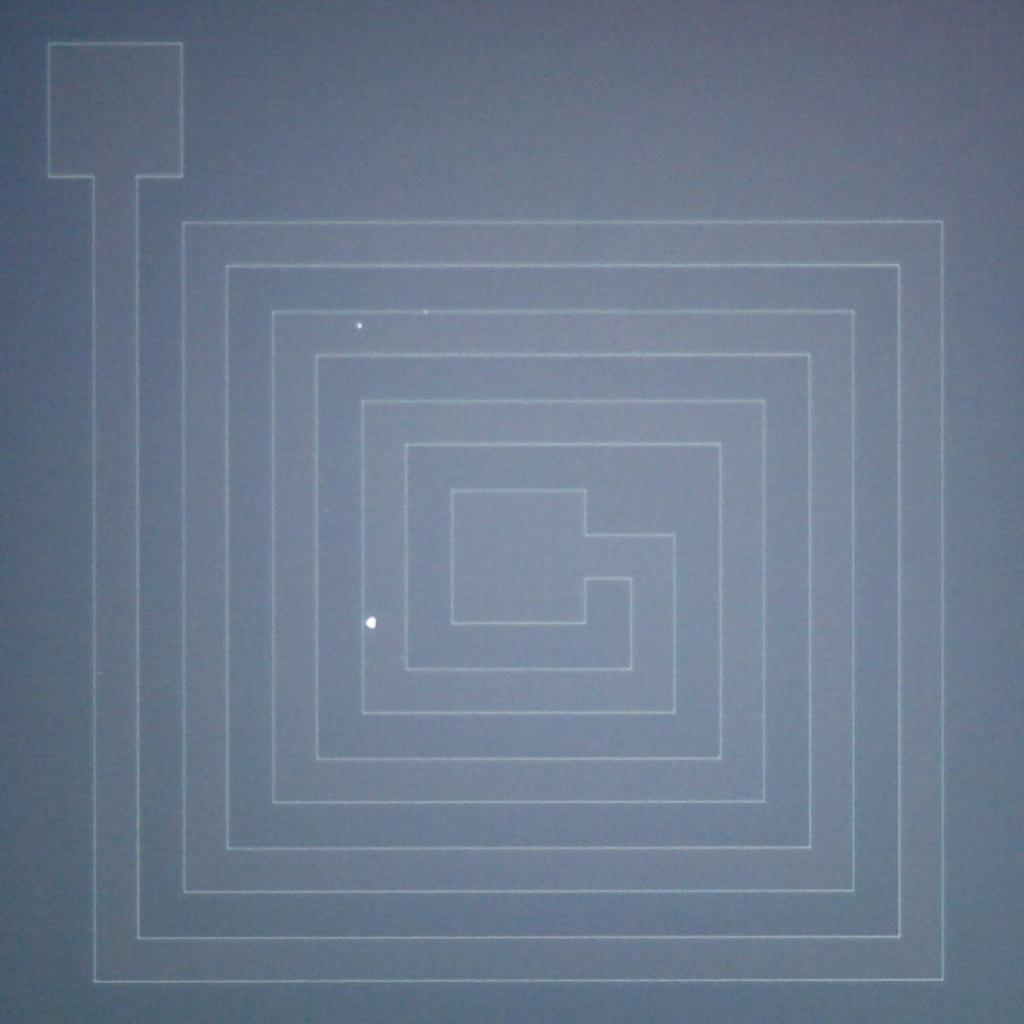dot: (366, 618, 376, 628), (358, 323, 363, 328)
